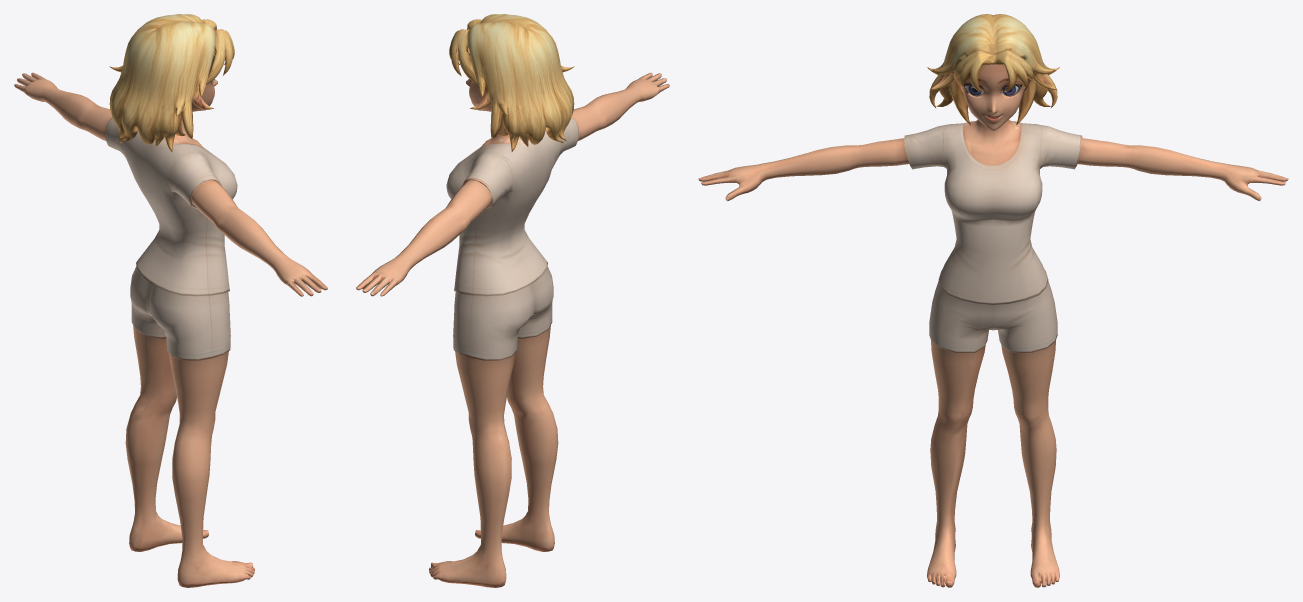
Rendered from madeline.fbx.
The picture shows the model from 3 angles, left to right: view 1: azimuth 30°, elevation 25°; view 2: azimuth 150°, elevation 25°; view 3: azimuth 270°, elevation 25°; orthographic projection.
Parts seen in each view (by area): view 1: b4268d63_a098_4a88_965e_ace2fc28f024; view 2: b4268d63_a098_4a88_965e_ace2fc28f024; view 3: b4268d63_a098_4a88_965e_ace2fc28f024.
Part boxes in pixels (<box>): b4268d63_a098_4a88_965e_ace2fc28f024: <box>14,14,327,587</box>; b4268d63_a098_4a88_965e_ace2fc28f024: <box>356,14,669,587</box>; b4268d63_a098_4a88_965e_ace2fc28f024: <box>698,14,1288,587</box>.
Bounding box in the file's own units: 0.2163 × 0.9995 × 0.9878.
1 material, 1 textured.
